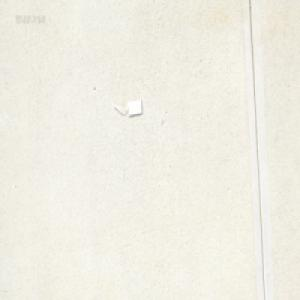LuggageTag: (110, 98, 143, 116)
